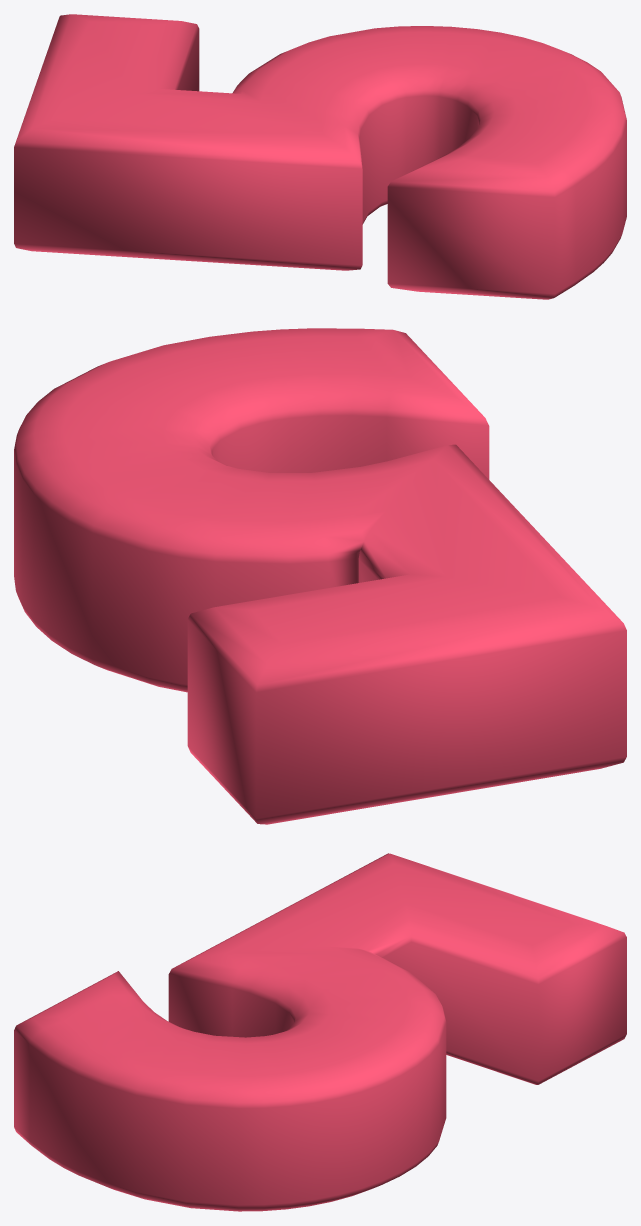
The model's file is ToyObject_208.fbx.
The picture shows the model from 3 angles, top to bottom: view 1: azimuth 30°, elevation 25°; view 2: azimuth 150°, elevation 25°; view 3: azimuth 270°, elevation 25°; orthographic projection. The views are drawn at different scales.
Visible parts, largest first — view 1: Object.007; view 2: Object.007; view 3: Object.007.
Part boxes in pixels (left/top/right/bottom): Object.007: left=14, top=14, right=626, bottom=299; Object.007: left=14, top=328, right=626, bottom=824; Object.007: left=14, top=853, right=626, bottom=1211.
Bounding box in the file's own units: 0.1659 × 0.0397 × 0.1711.
